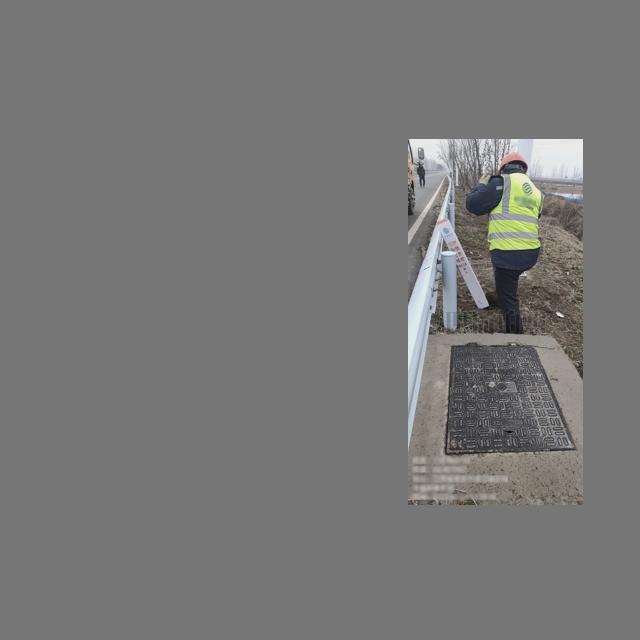good: (445, 341, 577, 453)
